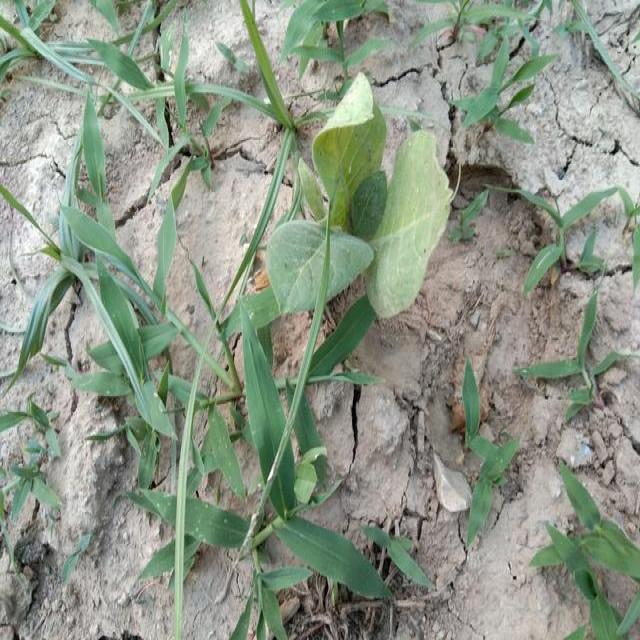crop: (259, 70, 459, 325)
